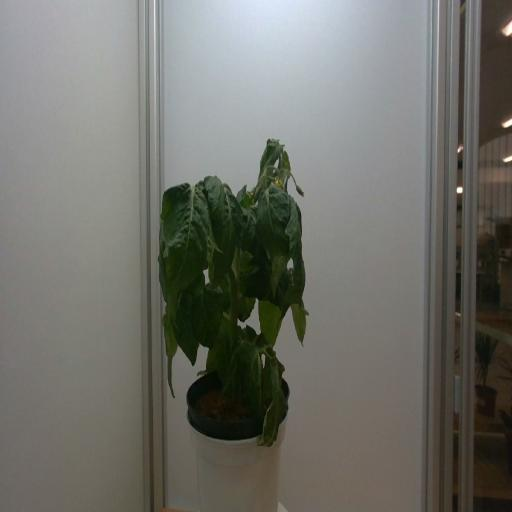Tomato-Leaves-Cupboard-: (162, 168, 213, 305), (253, 354, 290, 454), (206, 188, 240, 288), (253, 181, 293, 258), (173, 285, 205, 370), (204, 311, 236, 378), (157, 306, 178, 408), (238, 338, 264, 416), (258, 287, 284, 357), (202, 170, 228, 239), (288, 276, 310, 352), (237, 245, 271, 290), (228, 270, 257, 320), (286, 192, 304, 270), (283, 259, 307, 308), (180, 263, 206, 300), (240, 202, 260, 250), (268, 253, 288, 300), (256, 138, 279, 175), (234, 180, 256, 206), (243, 324, 258, 346), (282, 148, 290, 182)
